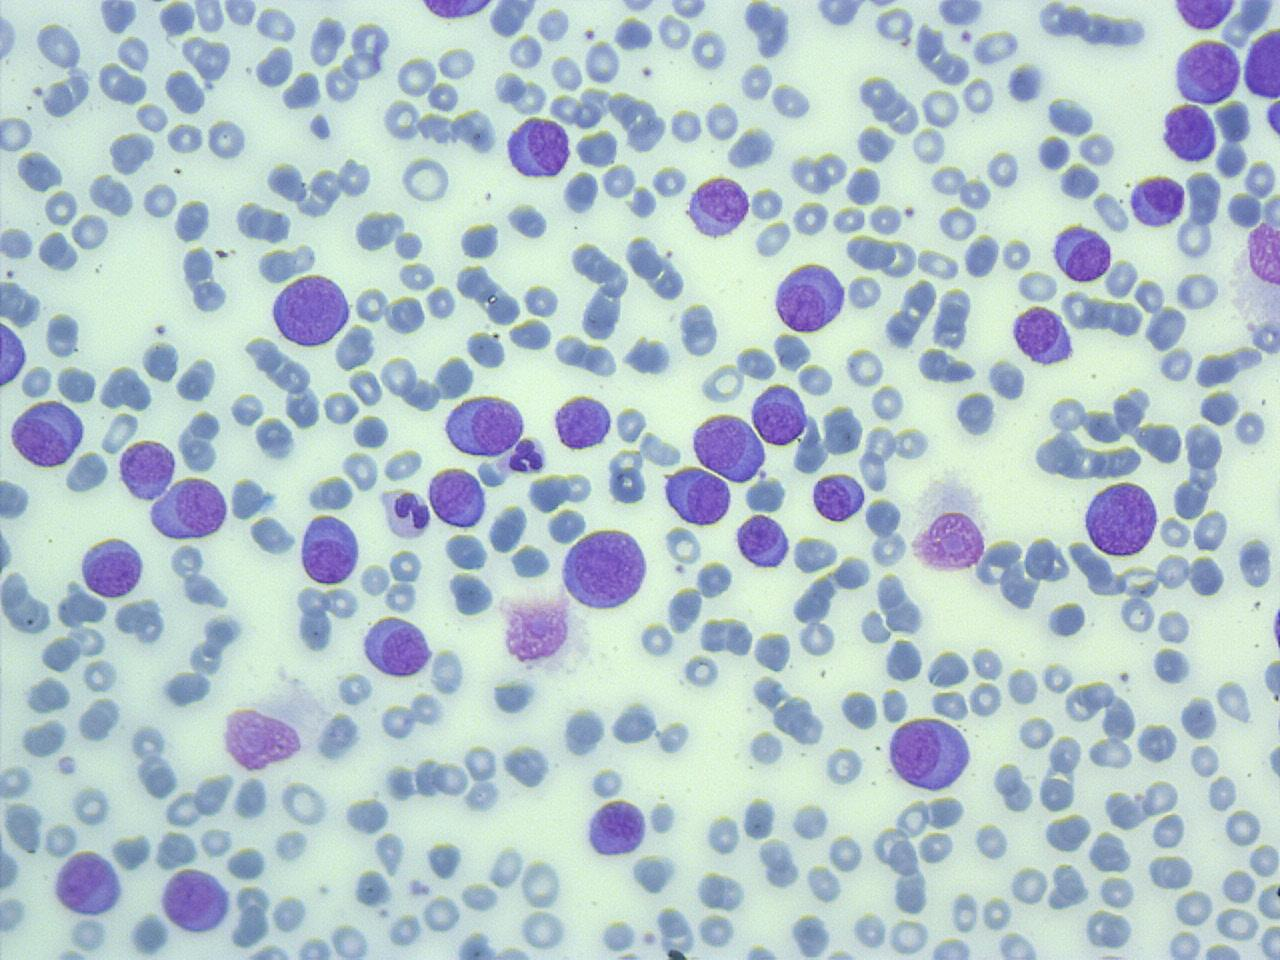Platelets: (312, 710, 363, 765), (560, 704, 609, 758), (692, 868, 749, 914), (445, 571, 497, 619), (626, 852, 680, 898), (620, 333, 676, 377), (609, 698, 660, 746), (485, 674, 539, 719), (247, 514, 299, 560), (226, 476, 278, 521), (1043, 93, 1097, 136), (1236, 532, 1276, 590), (518, 908, 570, 952), (157, 670, 215, 708), (788, 910, 834, 957), (252, 416, 297, 464), (14, 150, 65, 191), (44, 308, 84, 358), (342, 796, 392, 836), (429, 647, 469, 697), (1004, 60, 1048, 105), (138, 339, 181, 385), (503, 200, 550, 242), (127, 912, 170, 957), (1178, 694, 1220, 740), (232, 774, 271, 822), (972, 29, 1022, 66), (743, 728, 787, 770), (1045, 598, 1089, 640), (264, 159, 308, 201), (770, 80, 816, 120), (740, 794, 780, 840), (464, 328, 507, 370), (1150, 646, 1192, 689), (110, 830, 155, 870), (424, 839, 466, 881), (458, 221, 503, 260), (1033, 2, 1079, 40), (351, 868, 392, 910), (864, 495, 904, 538), (702, 814, 742, 856), (789, 800, 831, 840), (612, 15, 656, 53), (223, 845, 269, 881), (0, 474, 33, 524), (694, 913, 738, 950), (201, 612, 248, 646), (67, 916, 111, 952), (811, 1, 867, 29), (1034, 134, 1074, 173), (95, 1, 140, 35), (350, 413, 391, 450), (740, 1, 783, 36), (382, 762, 419, 802), (0, 894, 32, 940), (536, 6, 574, 44), (656, 718, 694, 756), (272, 828, 312, 864), (598, 918, 638, 954), (748, 674, 789, 709), (458, 880, 502, 912), (385, 912, 423, 949), (334, 672, 374, 707), (0, 224, 37, 261), (157, 1, 196, 36), (934, 1, 986, 27), (588, 766, 626, 800), (0, 6, 20, 69), (455, 930, 497, 960), (646, 800, 679, 836), (626, 184, 658, 220), (392, 229, 426, 261), (1261, 94, 1280, 144), (307, 112, 334, 143), (0, 525, 16, 577), (740, 941, 781, 960), (495, 942, 535, 960), (53, 754, 82, 778), (1265, 742, 1280, 784), (618, 0, 657, 16), (405, 874, 433, 896), (641, 930, 660, 946), (3, 266, 16, 282), (960, 29, 974, 43)
RBC: (5, 398, 87, 470), (910, 505, 990, 576), (440, 392, 528, 456), (149, 473, 230, 542), (690, 411, 764, 484), (296, 512, 362, 584), (686, 172, 752, 240), (78, 534, 146, 598), (1011, 306, 1077, 369), (666, 465, 732, 528), (426, 466, 490, 530), (115, 437, 177, 502), (750, 381, 808, 449), (1158, 100, 1218, 165), (1050, 222, 1112, 282), (550, 392, 614, 450), (735, 511, 793, 569), (1127, 172, 1187, 226), (810, 472, 866, 524), (1242, 27, 1280, 98), (380, 489, 432, 540), (399, 154, 452, 203), (950, 390, 1000, 440), (35, 19, 84, 70), (500, 742, 552, 790), (276, 780, 330, 824), (106, 130, 156, 177), (578, 285, 622, 337), (253, 416, 299, 464), (520, 860, 566, 908), (727, 126, 778, 169), (695, 362, 746, 405), (1084, 909, 1136, 951), (518, 910, 570, 952), (678, 302, 720, 354), (134, 753, 181, 797), (332, 324, 376, 371), (790, 534, 841, 574), (37, 231, 83, 275), (0, 316, 28, 388), (429, 646, 469, 696), (1183, 422, 1223, 472), (394, 54, 439, 98), (205, 117, 249, 162), (1173, 270, 1221, 311), (1043, 813, 1093, 852), (820, 745, 865, 788), (870, 5, 916, 47), (924, 648, 972, 688), (1214, 676, 1254, 724), (1145, 852, 1195, 890), (382, 97, 422, 144), (1171, 888, 1217, 928), (574, 128, 620, 168), (690, 27, 730, 73), (378, 354, 418, 400), (961, 232, 1000, 279), (339, 450, 381, 493), (1150, 646, 1194, 687), (1174, 215, 1214, 260), (768, 81, 815, 119), (752, 630, 794, 672), (1222, 806, 1264, 848), (882, 638, 924, 680), (920, 87, 962, 129), (349, 20, 391, 61), (173, 200, 214, 242), (607, 464, 647, 507), (386, 293, 426, 336), (1044, 600, 1088, 639), (1192, 507, 1230, 552), (583, 39, 621, 84), (844, 347, 885, 388), (70, 211, 111, 252), (560, 172, 600, 214), (310, 16, 345, 64), (984, 148, 1022, 192), (886, 918, 930, 956), (804, 863, 844, 904), (422, 894, 463, 934), (1010, 864, 1050, 905), (1086, 736, 1134, 770), (838, 688, 878, 728), (844, 165, 883, 206), (140, 180, 179, 221), (797, 619, 838, 658), (972, 821, 1011, 862), (826, 832, 865, 873), (1189, 556, 1227, 598), (790, 200, 832, 238), (329, 923, 372, 960), (936, 206, 980, 242), (1215, 906, 1261, 940), (346, 367, 385, 407), (865, 497, 904, 537), (1138, 722, 1178, 761), (1103, 256, 1139, 299), (704, 100, 740, 143), (81, 657, 121, 695), (430, 760, 470, 798), (522, 282, 562, 320), (752, 220, 792, 258), (1037, 774, 1077, 812), (600, 161, 638, 201), (1077, 131, 1119, 167), (381, 447, 424, 482), (916, 248, 963, 280), (948, 890, 982, 934), (656, 14, 694, 53), (845, 273, 883, 312), (1142, 778, 1182, 815), (649, 163, 689, 200), (163, 792, 204, 828), (739, 61, 775, 102), (960, 75, 996, 116), (1016, 714, 1057, 750), (1016, 270, 1060, 303), (536, 7, 574, 45), (1157, 346, 1195, 384), (910, 127, 948, 165), (966, 681, 1004, 719), (42, 189, 81, 226), (870, 382, 906, 422), (1120, 594, 1156, 634), (436, 45, 477, 80), (42, 820, 79, 858), (386, 547, 423, 585), (463, 744, 500, 782), (321, 389, 359, 426), (1150, 813, 1188, 850), (506, 33, 544, 70), (116, 33, 152, 72), (852, 911, 888, 950), (548, 53, 584, 92), (166, 122, 207, 156), (0, 113, 34, 154), (894, 800, 930, 838), (918, 829, 956, 865), (668, 106, 704, 144), (1243, 158, 1277, 198), (1007, 666, 1041, 706), (1134, 276, 1168, 316), (1097, 876, 1137, 910), (928, 164, 968, 197), (996, 930, 1040, 960), (1040, 660, 1076, 696), (423, 284, 457, 322), (980, 894, 1014, 932), (930, 688, 970, 720), (969, 645, 1005, 680), (1157, 608, 1191, 644), (750, 186, 784, 222), (1187, 742, 1221, 778), (1207, 775, 1239, 813), (396, 261, 436, 291), (134, 101, 170, 134), (386, 580, 420, 614), (868, 204, 904, 236), (1165, 930, 1203, 960), (1000, 237, 1033, 271), (192, 0, 227, 32), (832, 206, 868, 236), (295, 934, 336, 960), (427, 81, 460, 113), (930, 936, 974, 960), (1257, 922, 1280, 960)
WBC: (559, 524, 653, 612), (884, 713, 976, 794), (496, 591, 581, 673), (268, 270, 352, 350), (1079, 477, 1159, 560), (218, 704, 308, 772), (6, 398, 85, 472), (772, 262, 848, 334), (441, 393, 526, 457), (910, 507, 988, 575), (50, 848, 125, 917), (158, 866, 234, 934), (360, 613, 434, 680), (1170, 37, 1242, 103), (686, 171, 752, 241), (502, 116, 572, 182), (1008, 302, 1075, 370), (580, 798, 650, 861), (115, 436, 177, 504), (78, 536, 145, 598), (169, 476, 232, 540), (427, 462, 487, 529), (550, 391, 614, 452), (875, 570, 930, 636), (1158, 101, 1216, 163), (1127, 172, 1189, 229), (1247, 189, 1280, 296), (379, 486, 433, 542), (744, 3, 794, 57), (1165, 0, 1243, 34), (618, 334, 676, 379), (74, 695, 125, 745), (608, 699, 658, 747), (724, 124, 776, 170), (1081, 908, 1135, 951), (20, 673, 76, 714), (694, 868, 746, 912), (0, 315, 30, 390), (1044, 93, 1096, 135), (1042, 812, 1094, 854), (17, 718, 70, 758), (262, 158, 308, 203), (983, 356, 1027, 402), (172, 198, 214, 245), (341, 797, 391, 836), (1177, 694, 1219, 740), (254, 43, 294, 90), (463, 328, 507, 370), (694, 558, 736, 601), (1258, 653, 1280, 708)
